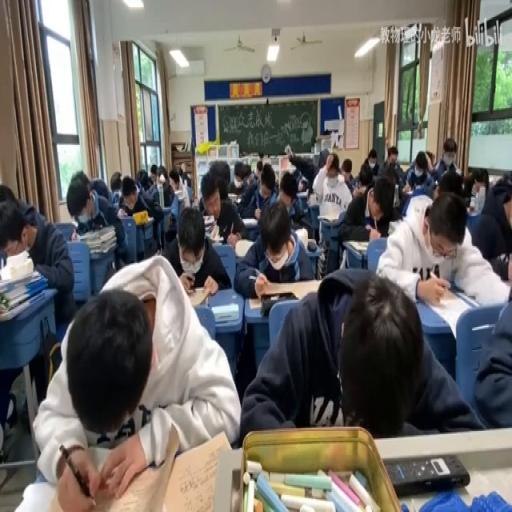calculator: (418, 282, 479, 340), (0, 268, 40, 292), (4, 248, 31, 270), (210, 302, 238, 322), (186, 286, 211, 307), (233, 238, 254, 256), (346, 239, 368, 253), (134, 212, 156, 226), (203, 215, 217, 236), (294, 226, 307, 248), (318, 212, 340, 222), (387, 219, 400, 235), (247, 296, 263, 308), (208, 233, 224, 245), (240, 214, 258, 224), (306, 194, 320, 206), (280, 155, 290, 171), (466, 205, 480, 215), (227, 192, 239, 202), (297, 189, 309, 198), (174, 189, 184, 199), (402, 182, 411, 193), (112, 189, 119, 202), (269, 155, 278, 165)
paper: (30, 254, 238, 505), (240, 267, 482, 441), (374, 186, 509, 306), (2, 192, 75, 331), (230, 196, 314, 296), (66, 171, 124, 276), (472, 279, 512, 428), (338, 171, 392, 270), (194, 169, 247, 246), (117, 172, 162, 255), (236, 164, 274, 219), (403, 151, 436, 196), (433, 135, 461, 179), (380, 142, 406, 186), (468, 166, 490, 196), (278, 172, 297, 203), (361, 147, 379, 179), (500, 188, 510, 238), (338, 158, 354, 189), (293, 165, 308, 193), (216, 176, 229, 205), (316, 148, 330, 171), (0, 183, 14, 204), (108, 171, 122, 192), (142, 180, 158, 198), (499, 170, 512, 190), (135, 168, 147, 189), (169, 170, 180, 190), (254, 158, 264, 180), (148, 164, 158, 184), (242, 164, 251, 184), (424, 155, 434, 172), (180, 170, 190, 186), (158, 174, 166, 186), (284, 144, 291, 156), (178, 164, 185, 174)
person: (384, 454, 470, 496), (259, 292, 298, 316), (306, 239, 318, 252)
